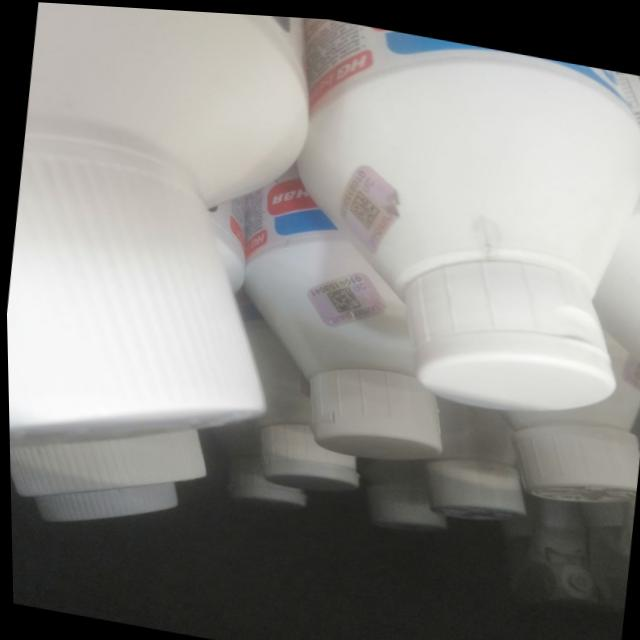datamatrix: (342, 183, 383, 229), (322, 277, 363, 313)
